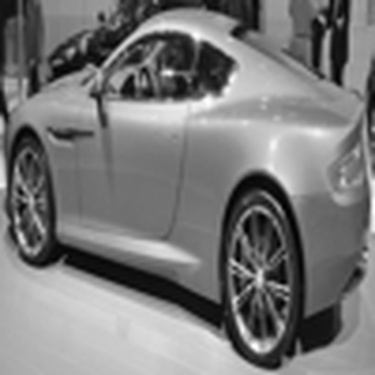car: (1, 11, 369, 370)
